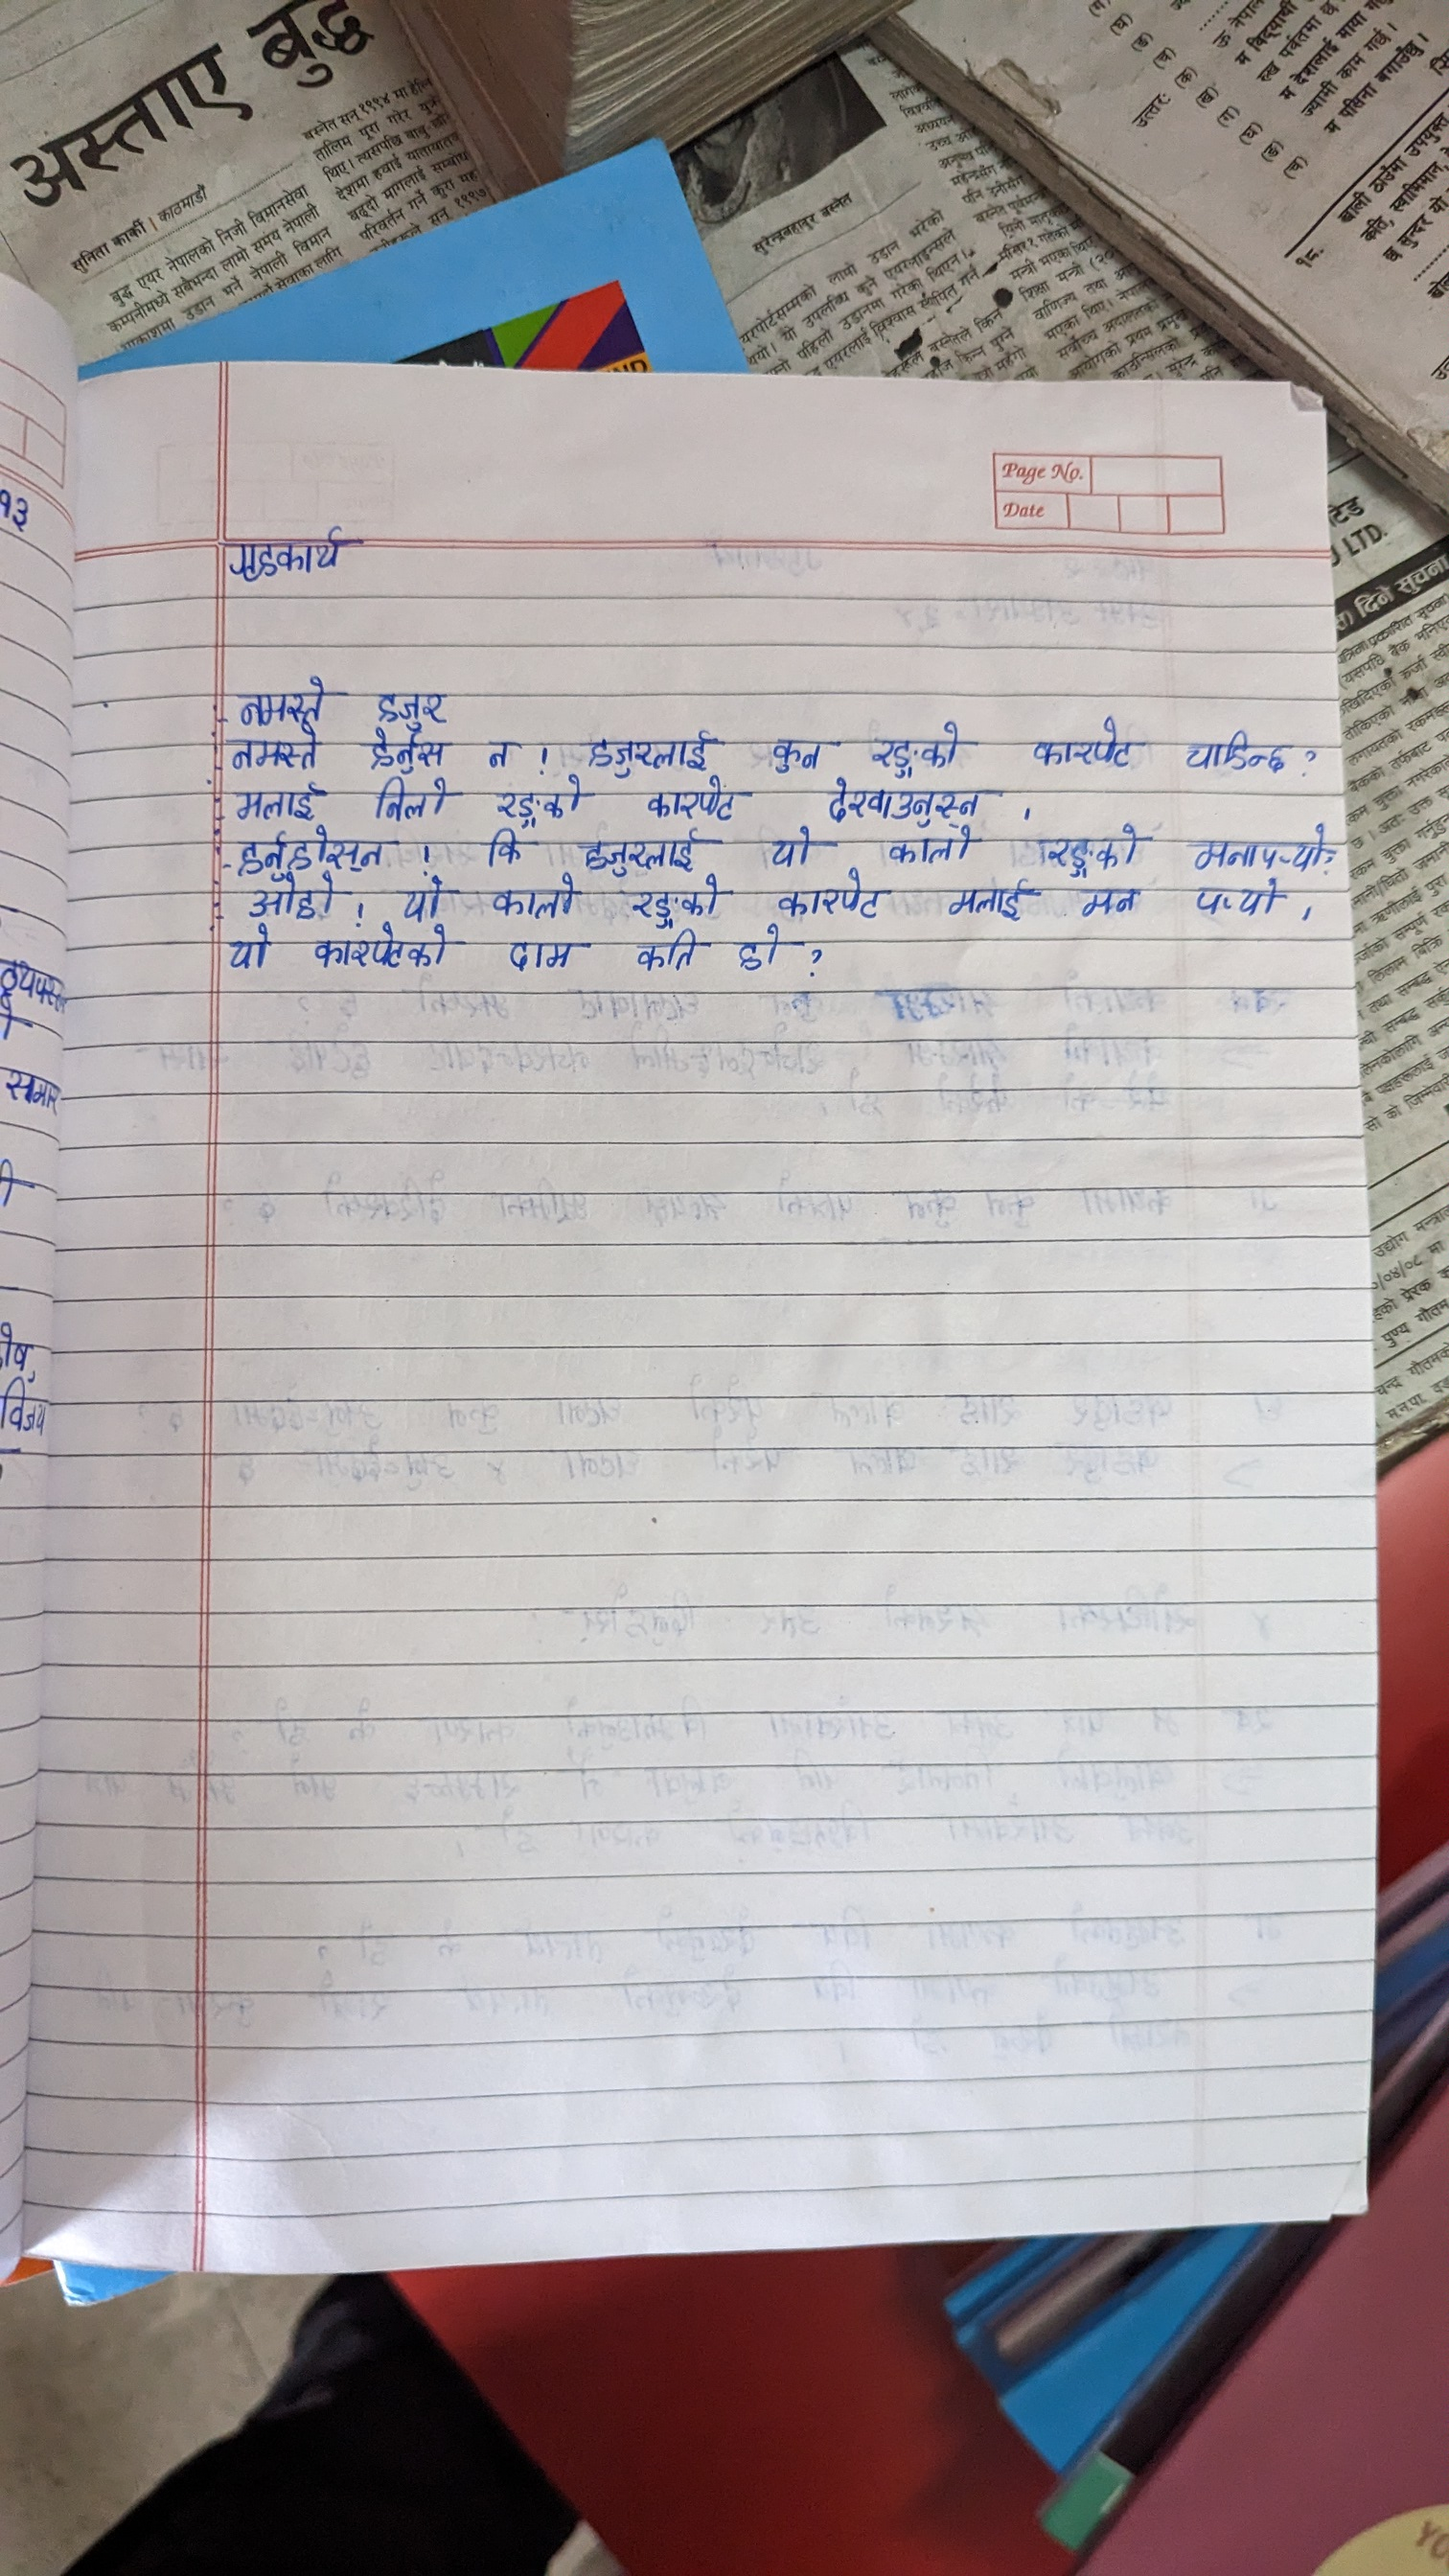text: (205, 510, 354, 593), (1180, 817, 1325, 872), (824, 780, 989, 826), (235, 830, 395, 872), (584, 722, 715, 773), (1039, 819, 1154, 878), (564, 826, 699, 874), (230, 671, 336, 727), (869, 718, 968, 775), (1031, 717, 1136, 770), (311, 925, 453, 964), (775, 870, 886, 916), (1177, 731, 1286, 777), (633, 778, 747, 823), (625, 876, 724, 925), (488, 775, 584, 824), (244, 878, 343, 922), (226, 732, 326, 775), (488, 878, 580, 922), (232, 778, 324, 821), (947, 872, 1028, 920), (363, 732, 453, 775), (1191, 878, 1281, 920), (366, 778, 451, 823), (633, 927, 699, 973), (364, 694, 453, 727), (502, 939, 580, 977), (883, 830, 971, 862), (736, 925, 787, 978), (223, 925, 278, 975), (768, 732, 823, 775), (1081, 885, 1138, 922), (478, 731, 524, 773), (768, 824, 812, 867), (405, 879, 451, 920), (481, 832, 525, 870)
